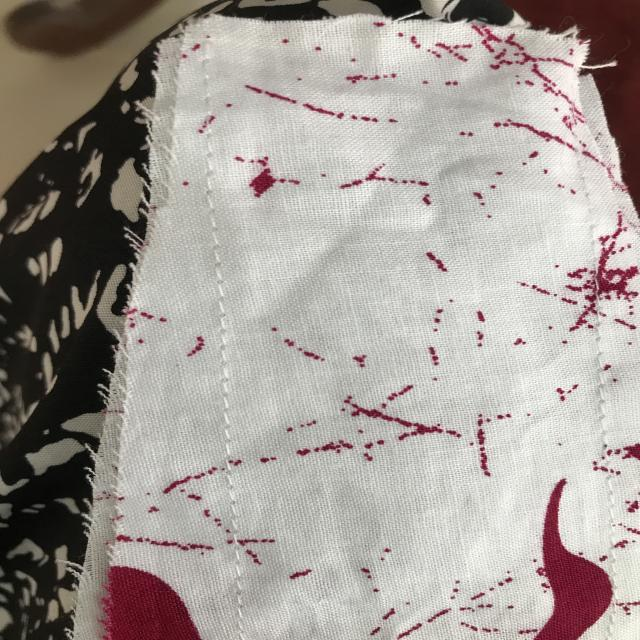good: (204, 416, 269, 557), (195, 226, 250, 388)
